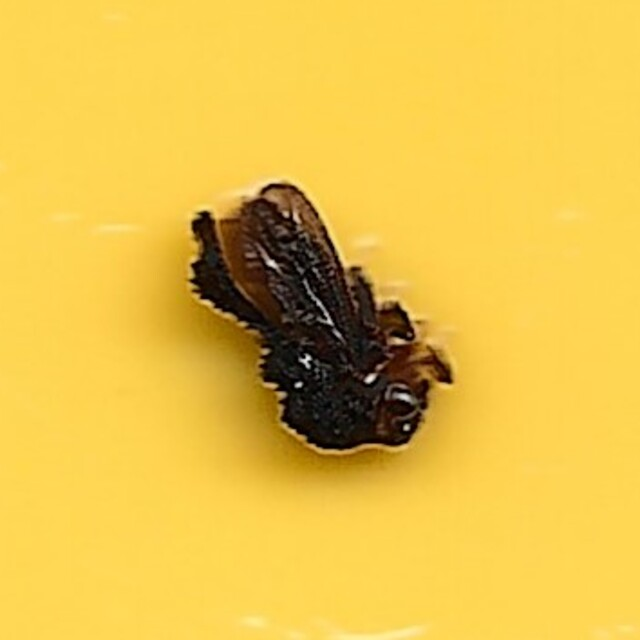Hemiptera: (181, 180, 459, 460)
